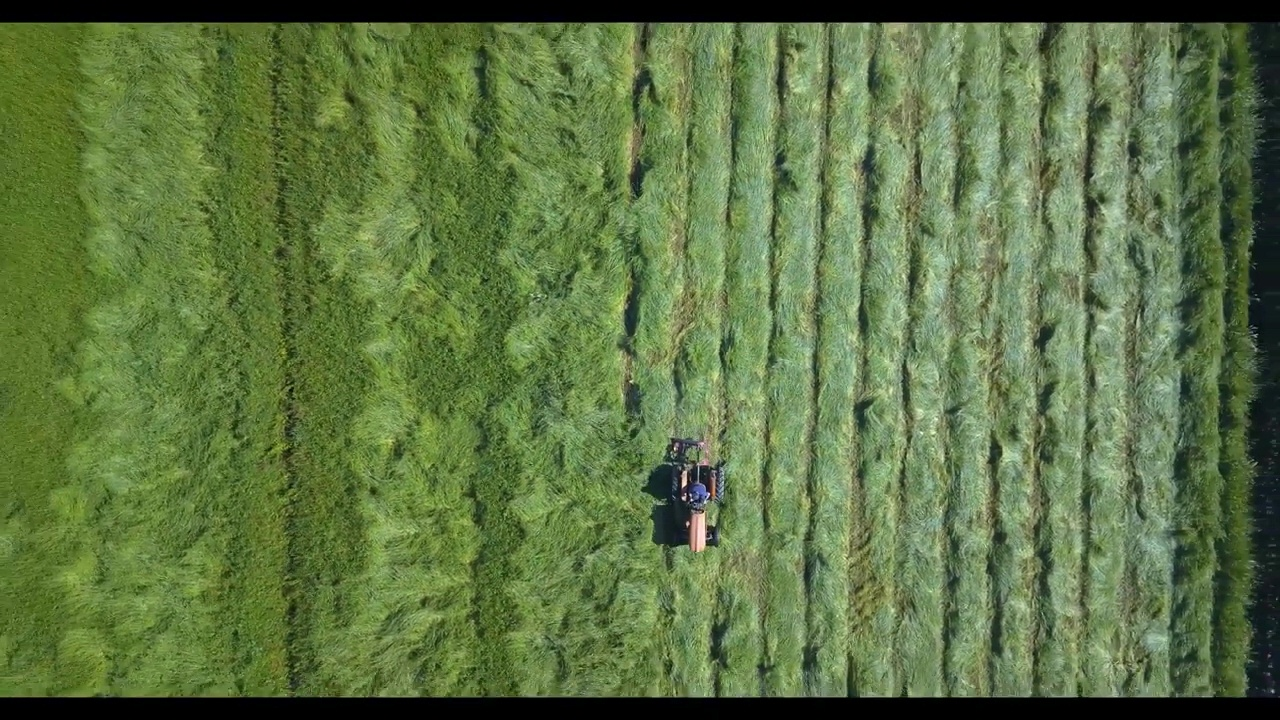insan: (687, 480, 713, 506)
traktor: (666, 462, 728, 551)
